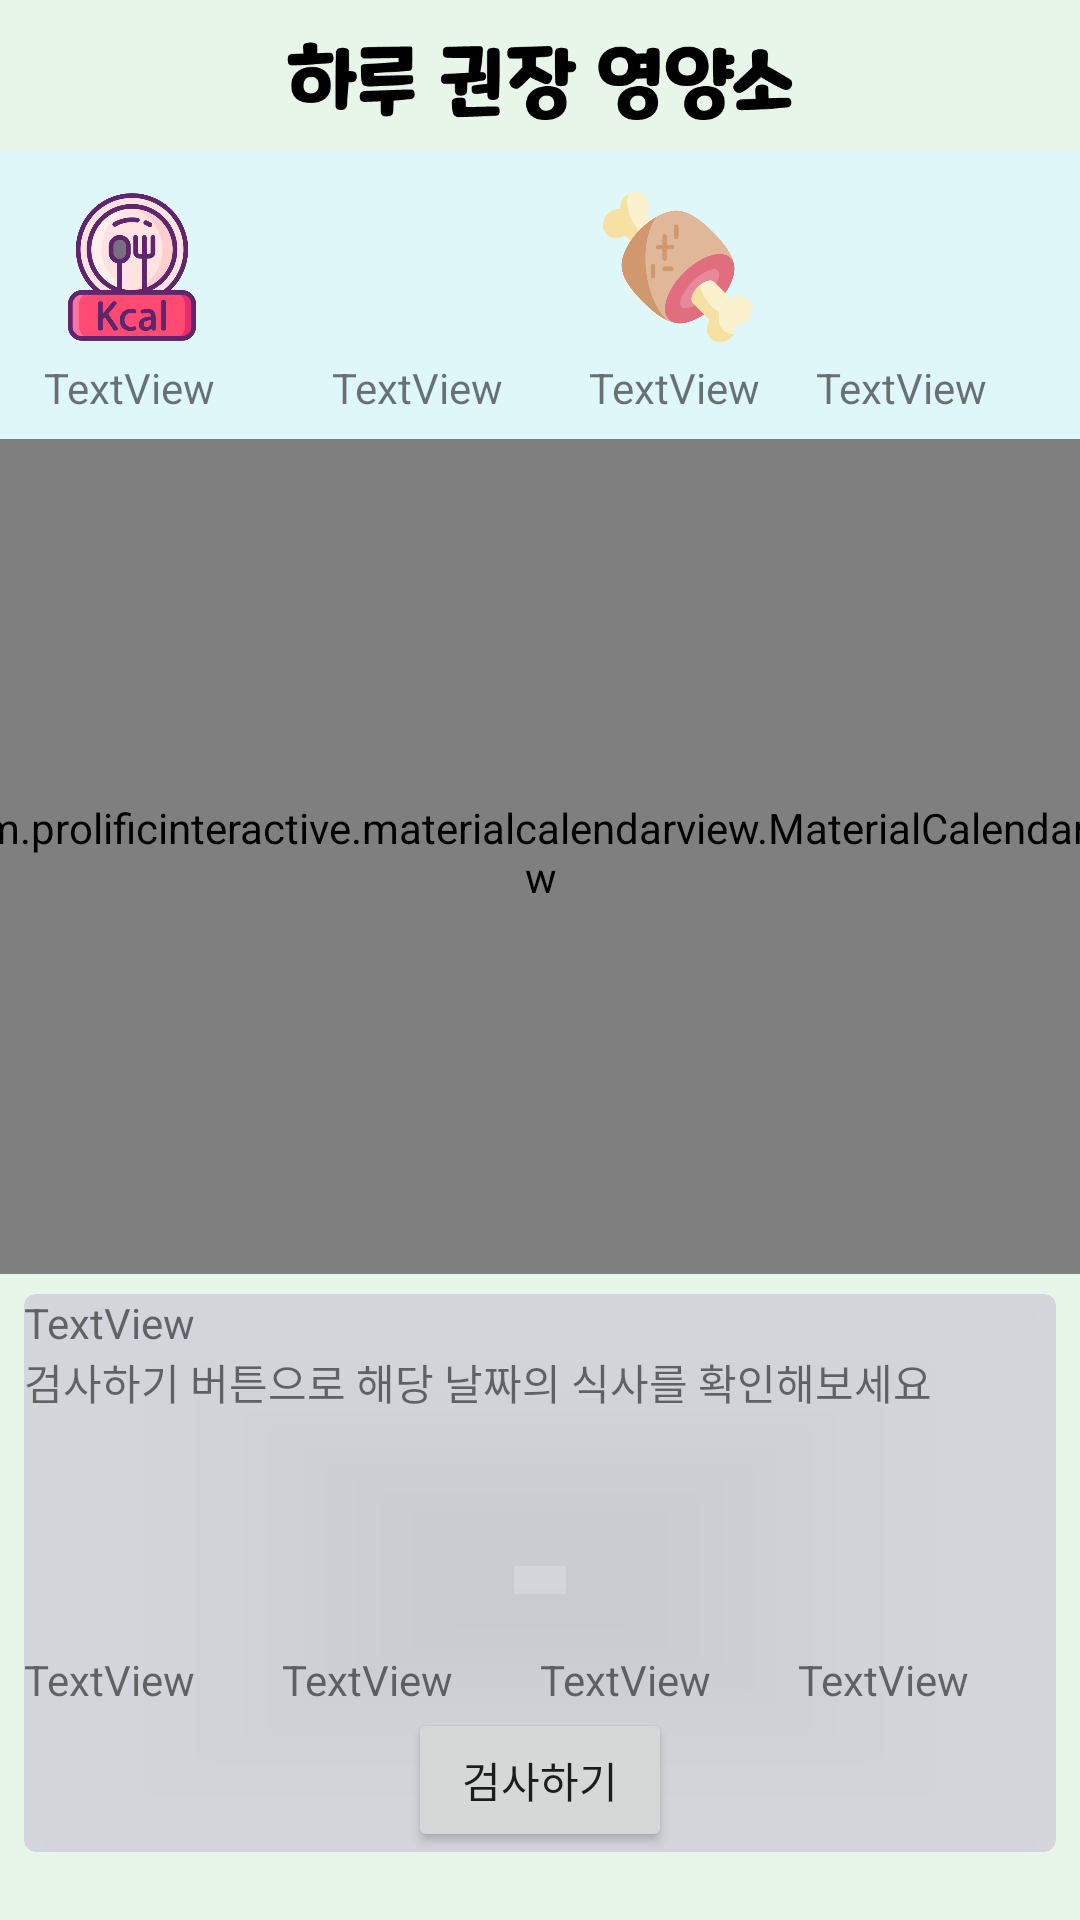

Icons on this 1080 × 1920 Android screen, each with the point to tap as [x,y]:
premium calories: [132,267]
premium meat: [678,267]
